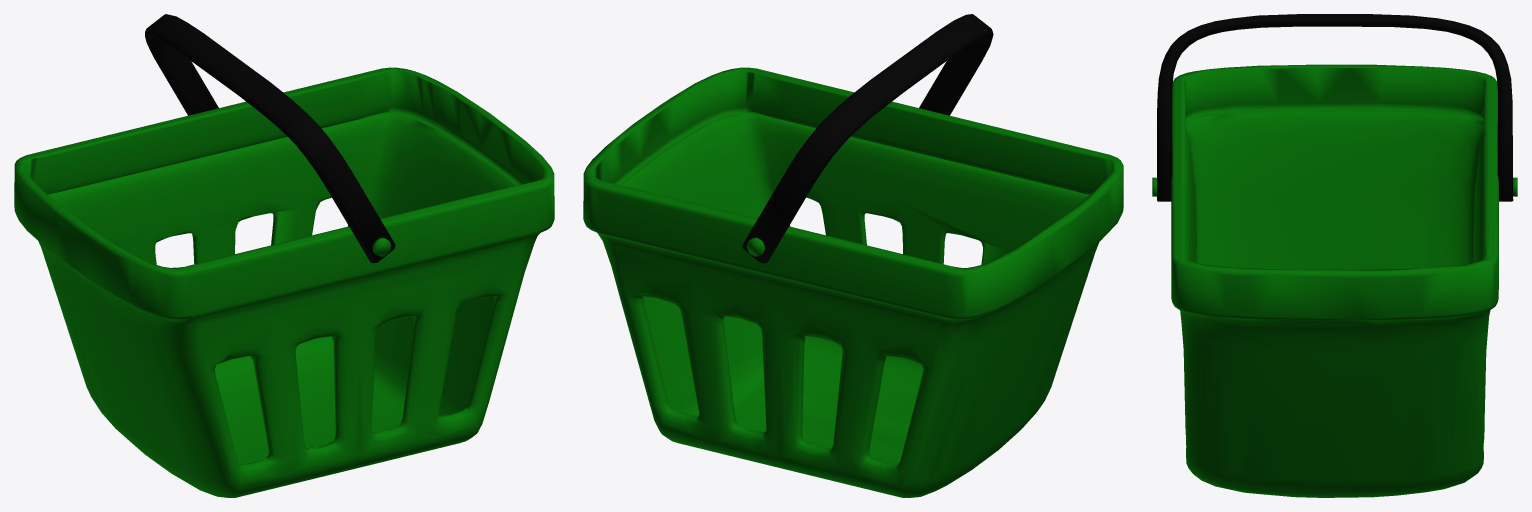
File: ShoppingBasket.fbx
The picture shows the model from 3 angles, left to right: view 1: azimuth 30°, elevation 25°; view 2: azimuth 150°, elevation 25°; view 3: azimuth 270°, elevation 25°; orthographic projection.
Visible parts, largest first — view 1: ShoppingBasket; view 2: ShoppingBasket; view 3: ShoppingBasket.
Boxes of the visible parts, <box> form: ShoppingBasket: <box>14,14,554,497</box>; ShoppingBasket: <box>583,14,1123,497</box>; ShoppingBasket: <box>1152,14,1517,497</box>.
Size of the model in its own units: 150 by 132 by 110.
